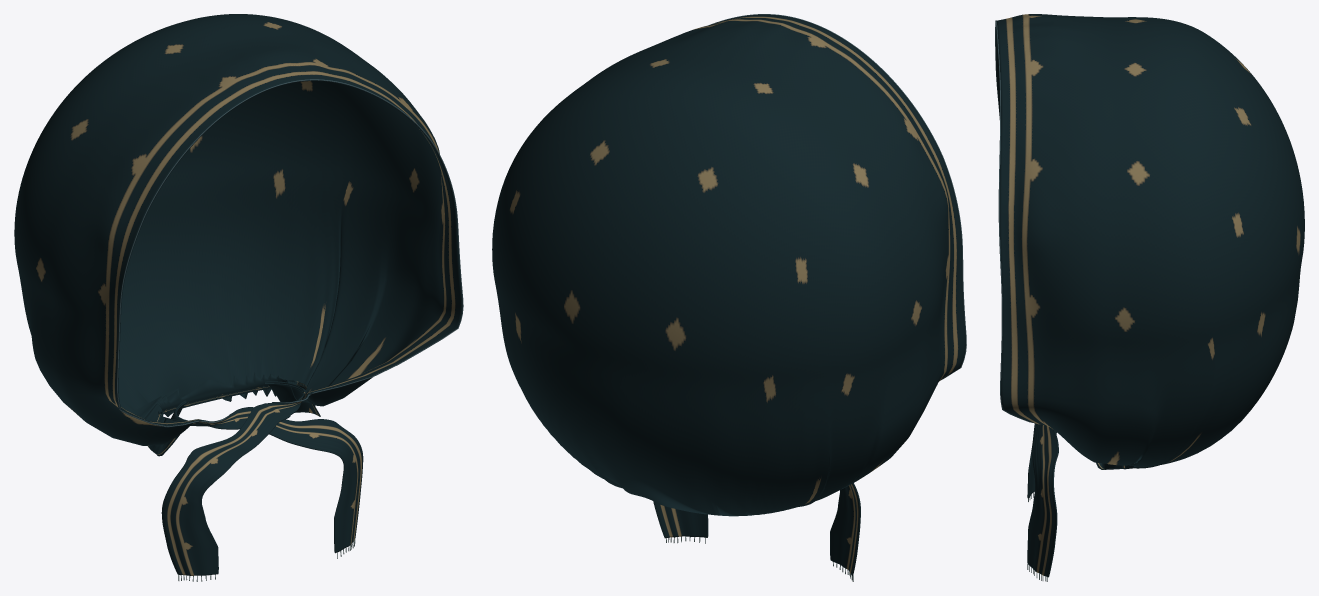
The model's file is Masculine-sidepart-jersey-pashmina250-headgear.glb.
The picture shows the model from 3 angles, left to right: view 1: azimuth 30°, elevation 25°; view 2: azimuth 150°, elevation 25°; view 3: azimuth 270°, elevation 25°; orthographic projection. The views are drawn at different scales.
Parts seen in each view (by area): view 1: 226 headgear / Headwear / continuous woven pashmina239, 226 headgear / Headwear / face edge239; view 2: 226 headgear / Headwear / continuous woven pashmina239, 226 headgear / Headwear / face edge239; view 3: 226 headgear / Headwear / continuous woven pashmina239, 226 headgear / Headwear / face edge239.
Part boxes in pixels (box(x1,y1,x2,y2)): 226 headgear / Headwear / continuous woven pashmina239: box(14, 14, 462, 575); 226 headgear / Headwear / face edge239: box(117, 79, 463, 427); 226 headgear / Headwear / continuous woven pashmina239: box(492, 14, 965, 575); 226 headgear / Headwear / face edge239: box(710, 14, 966, 380); 226 headgear / Headwear / continuous woven pashmina239: box(995, 14, 1304, 577); 226 headgear / Headwear / face edge239: box(995, 20, 1032, 422).
Bounding box in the file's own units: 1.07 × 1.39 × 0.7681.
3 materials, 1 textured.
